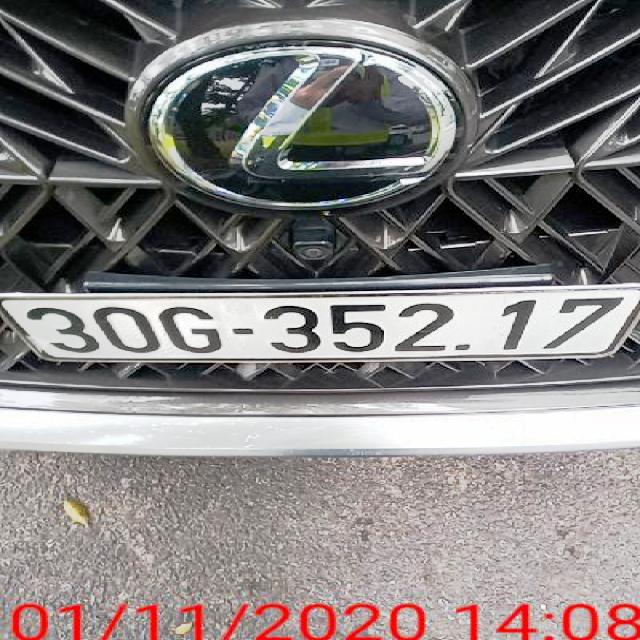license_plate: (1, 290, 640, 359)
